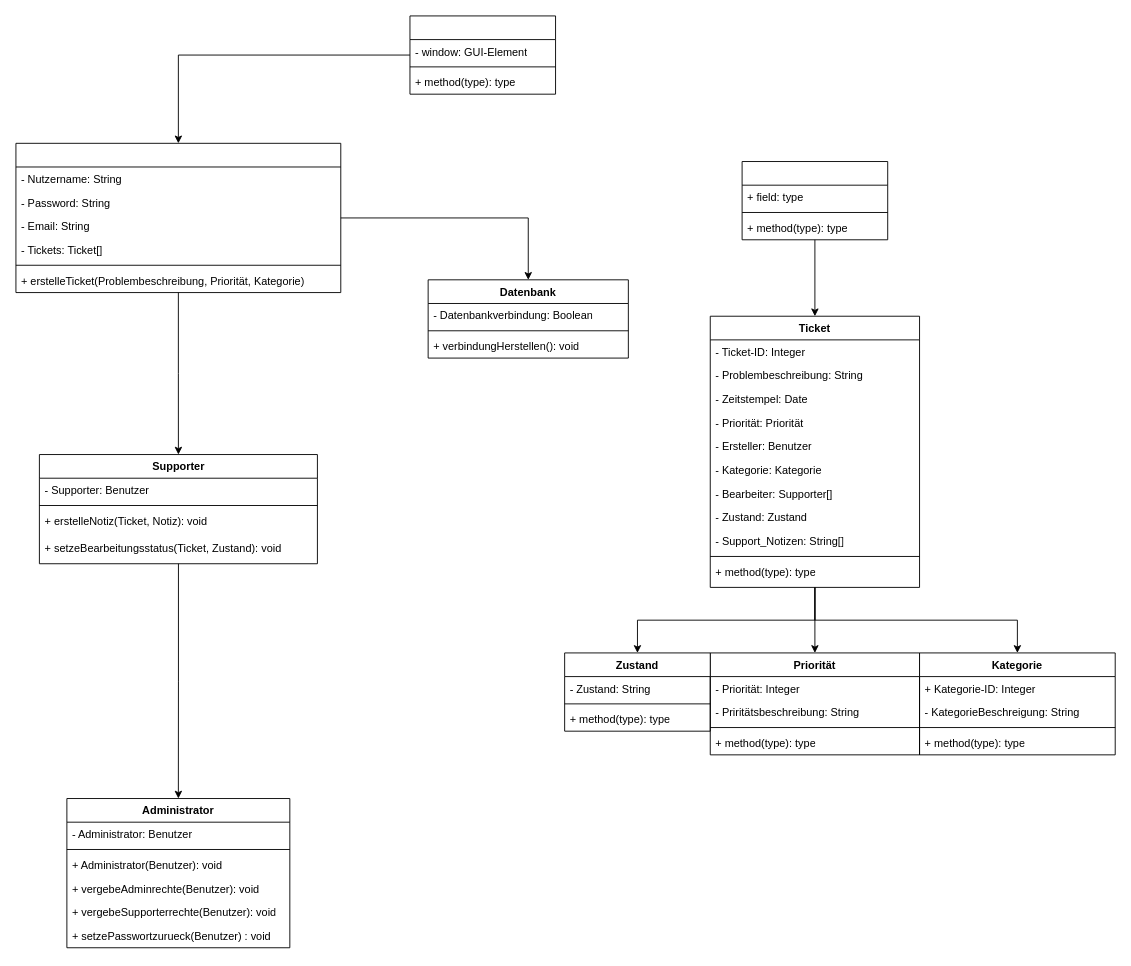
Image size: 1131x966. Some labels were removed from this diagram. Here are the shapes that lost their labels. From the top down, the box of each, then its label:
(409, 15, 556, 94): Applikation
(15, 142, 341, 293): Benutzer
(741, 161, 888, 240): Ticketmanager
